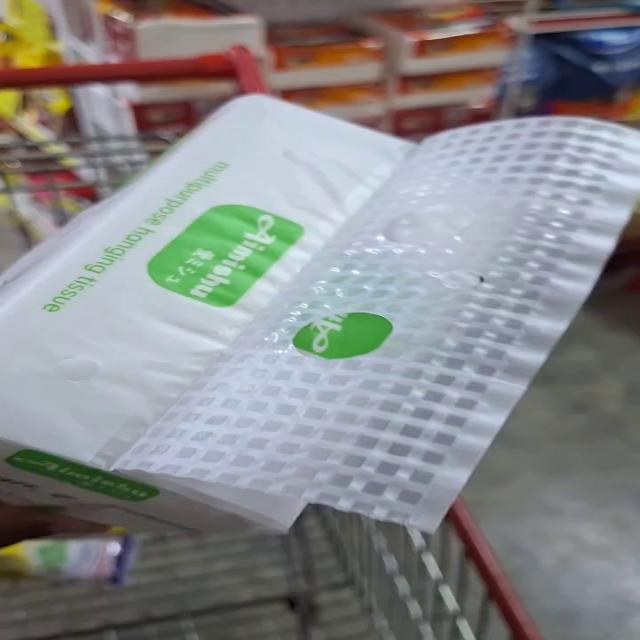Roti: (0, 542, 167, 601)
Tisu: (59, 92, 538, 553)
